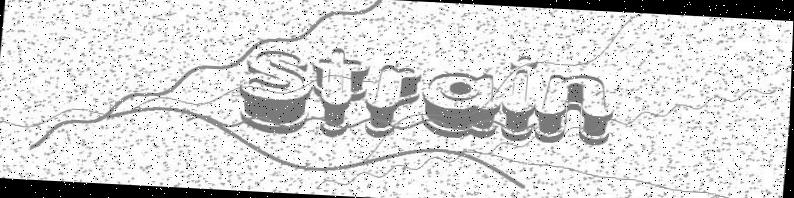a: (420, 71, 504, 140)
i: (500, 55, 541, 142)
n: (534, 73, 617, 147)
r: (363, 64, 423, 139)
s: (239, 48, 315, 135)
t: (309, 48, 369, 138)
